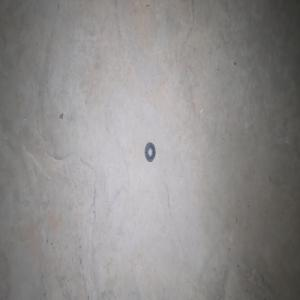Washer: (144, 142, 155, 162)
